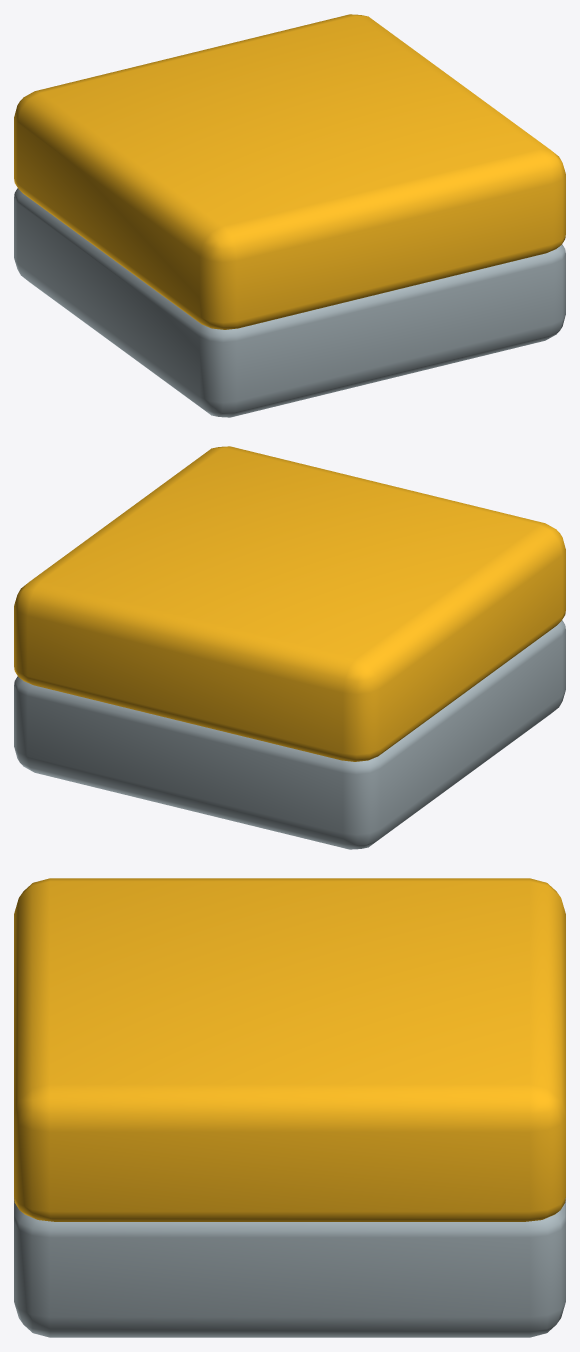
File: tileLow_teamYellow.glb
The picture shows the model from 3 angles, top to bottom: view 1: azimuth 30°, elevation 25°; view 2: azimuth 150°, elevation 25°; view 3: azimuth 270°, elevation 25°; orthographic projection. The views are drawn at different scales.
Visible parts, largest first — view 1: tileLow_teamYellow; view 2: tileLow_teamYellow; view 3: tileLow_teamYellow.
Part boxes in pixels (x1,y1,x2,y2): tileLow_teamYellow: [14, 14, 565, 417]; tileLow_teamYellow: [14, 446, 565, 849]; tileLow_teamYellow: [14, 878, 565, 1337].
Bounding box in the file's own units: 0.7 × 0.35 × 0.7.
